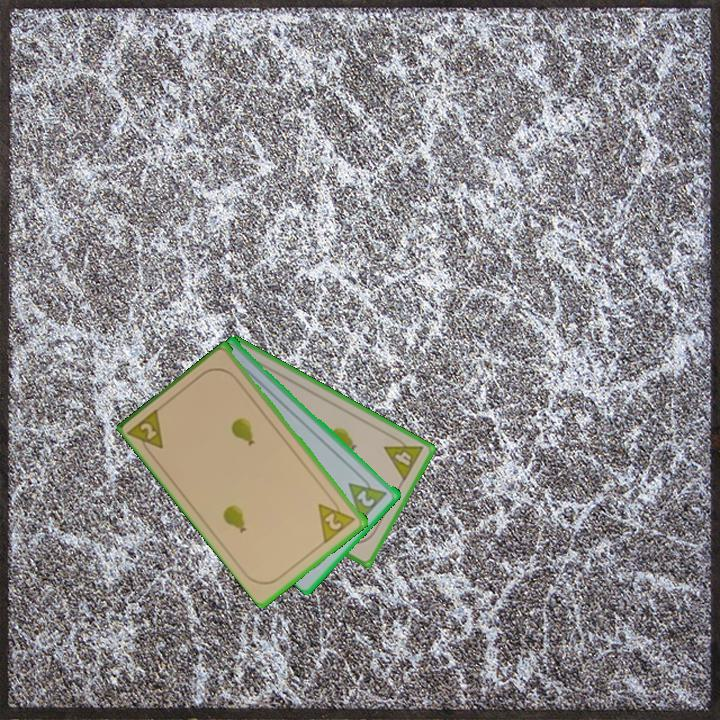2p: (125, 404, 167, 460), (315, 493, 358, 545), (353, 486, 378, 510)
4p: (381, 431, 426, 484)
